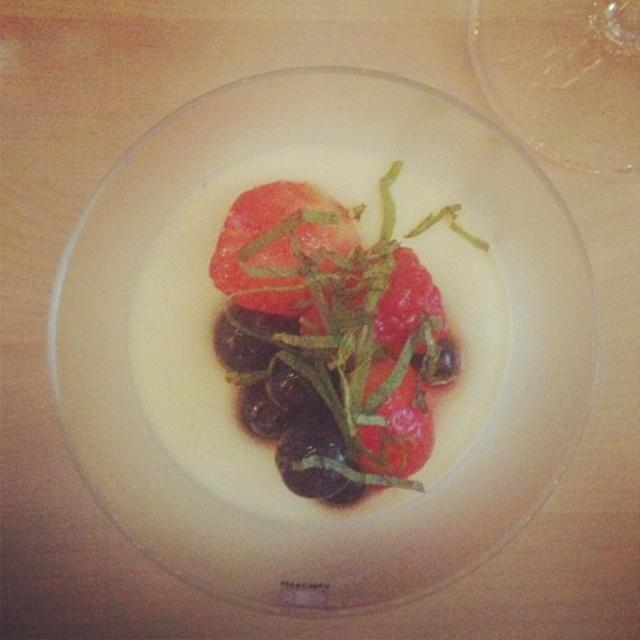non-organic waste: (52, 59, 599, 628)
